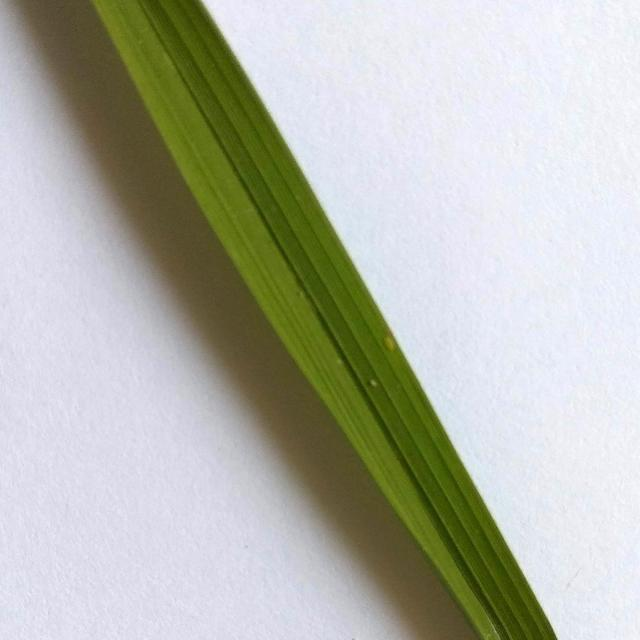healthy: (74, 0, 602, 640)
